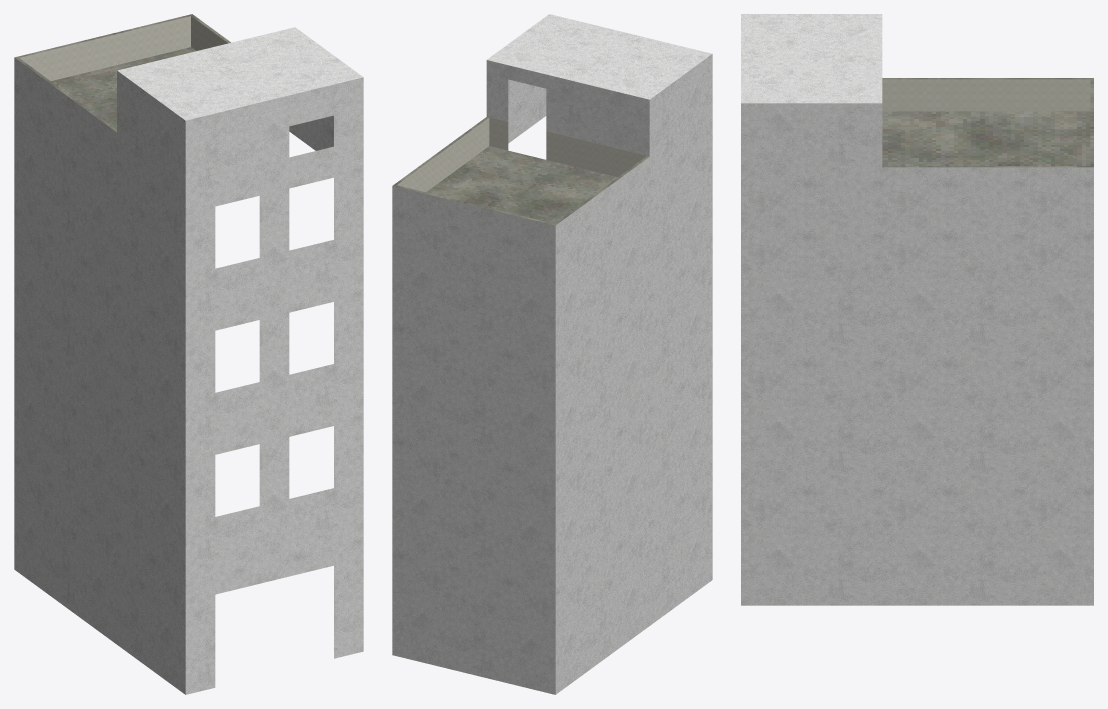
The model's file is TravelAgencySideStair.glb.
3 views of the same model, side by side, from view 1: azimuth 30°, elevation 25°; view 2: azimuth 150°, elevation 25°; view 3: azimuth 270°, elevation 25° (orthographic). The views are drawn at different scales.
Parts seen in each view (by area): view 1: SideStairs; view 2: SideStairs; view 3: SideStairs.
Boxes of the visible parts, <box> form: SideStairs: <box>14,14,363,694</box>; SideStairs: <box>392,14,712,694</box>; SideStairs: <box>741,14,1093,605</box>.
Size of the model in its own units: 6 by 18.5 by 10.
Materials: 3 (3 with a texture image).
